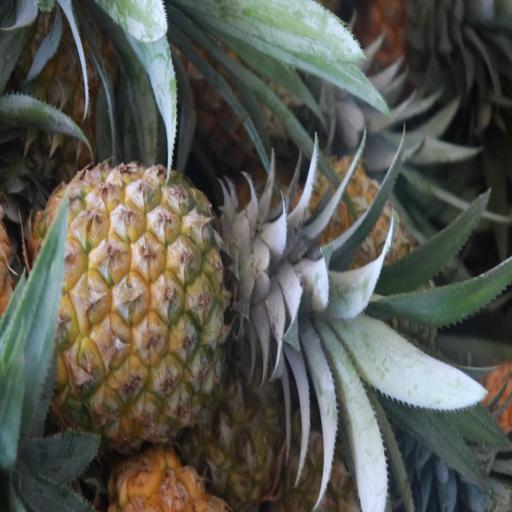Pineapple - v8 v1: (33, 163, 241, 442)
